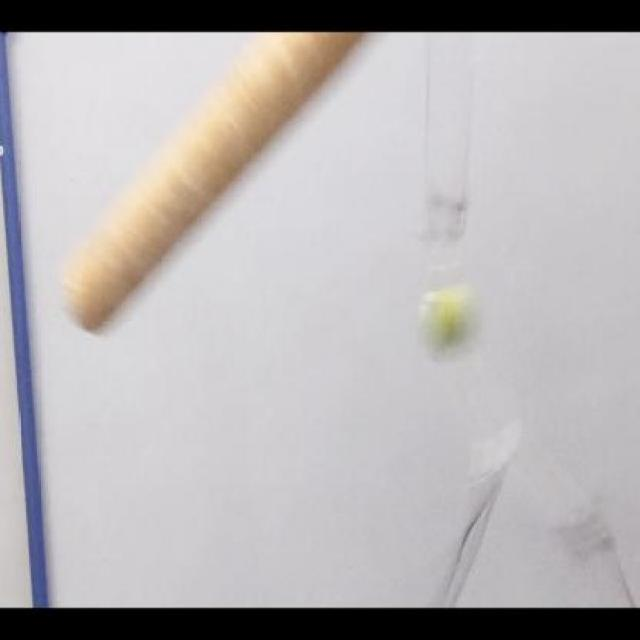baseball: (419, 282, 483, 358)
